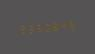eight: (49, 19, 56, 33)
five: (33, 21, 40, 34)
four: (57, 19, 64, 32)
nine: (65, 18, 72, 31)
three: (25, 21, 32, 35)
two: (17, 22, 24, 35)
zero: (41, 20, 48, 33)
